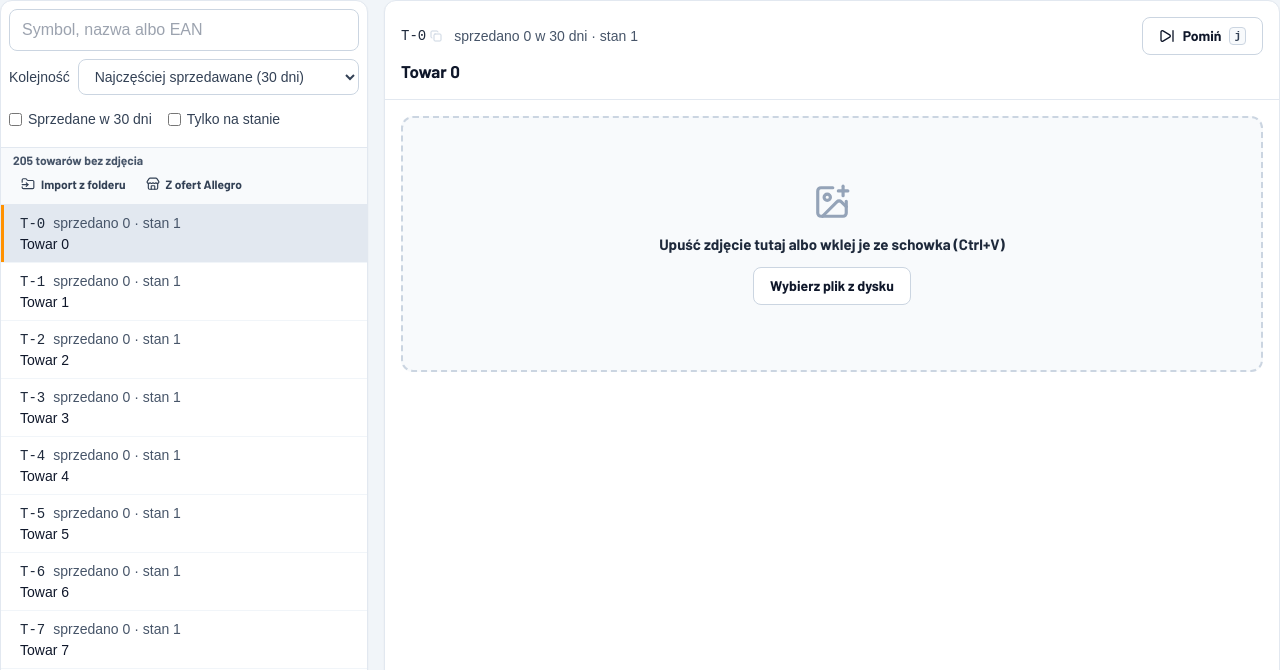
Test case: Zdjęcia z ofert Allegro › otwarcie ekranu i okna nie wysyła żadnego zapisu ani pytania do Allegro
Expected: the heading "Towar 0" is shown, x1=401 y1=61 x2=460 y2=81
Click the button "Z ofert Allegro" at (194, 184), box x1=138 y1=168 x2=250 y2=200
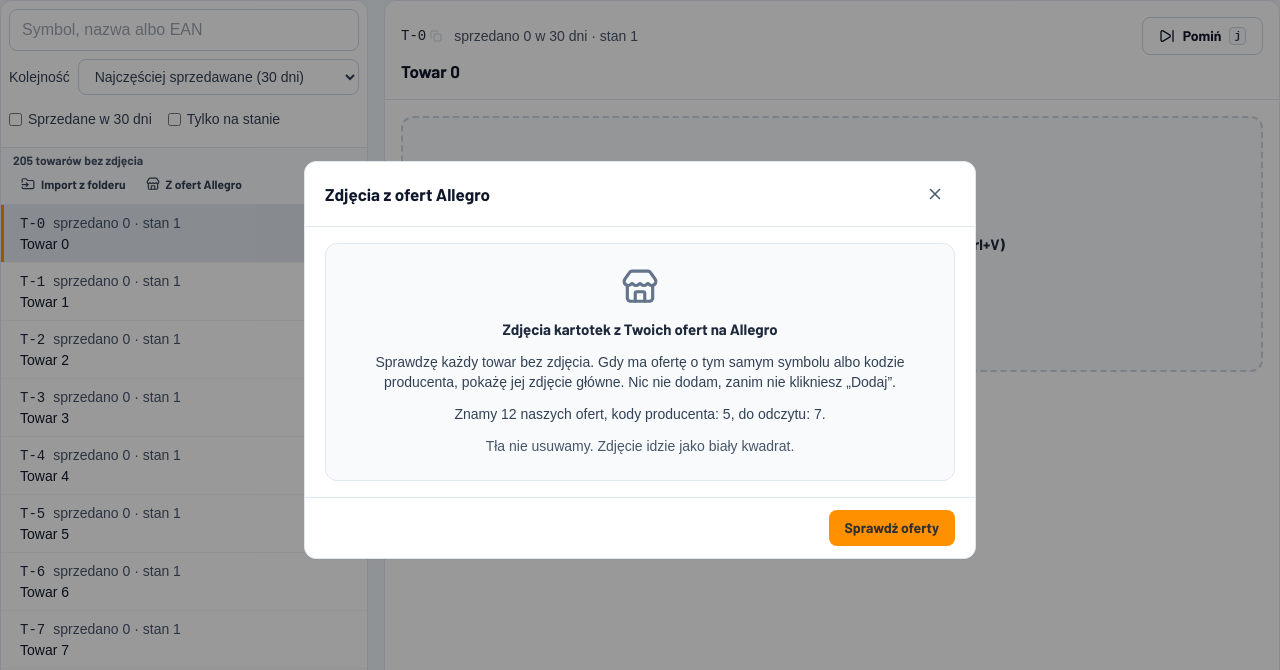
Now the button "Sprawdź oferty" is shown, box x1=828 y1=510 x2=955 y2=546
